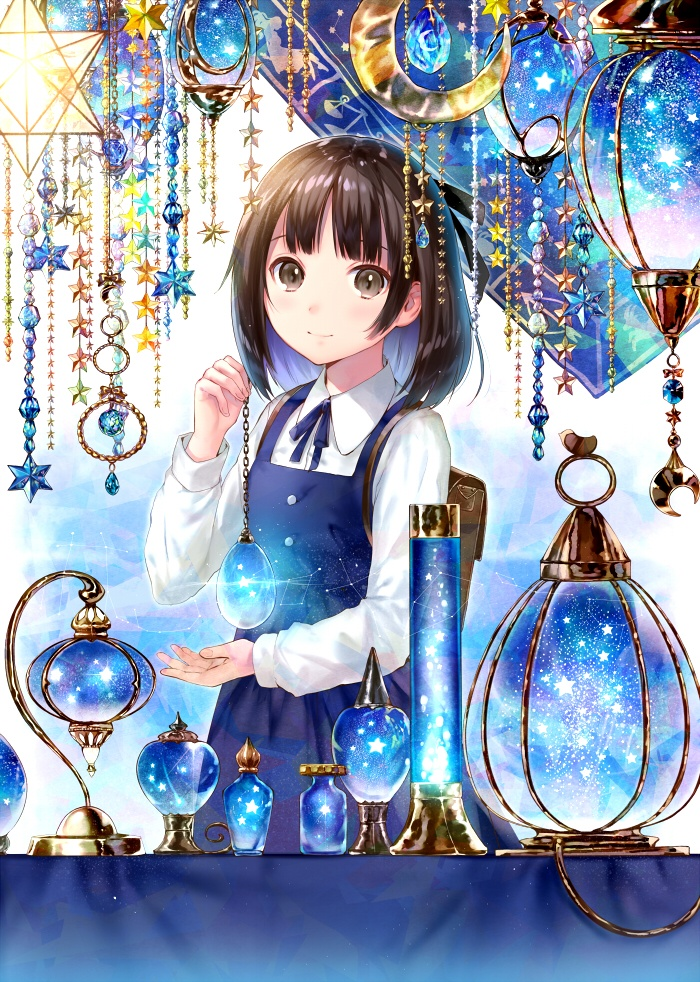纸片人正脸: (230, 132, 454, 372)
